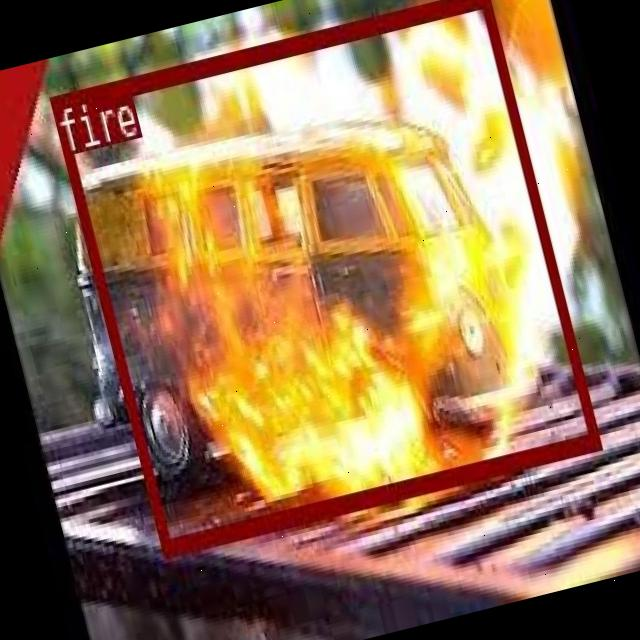fire: (48, 0, 597, 553)
